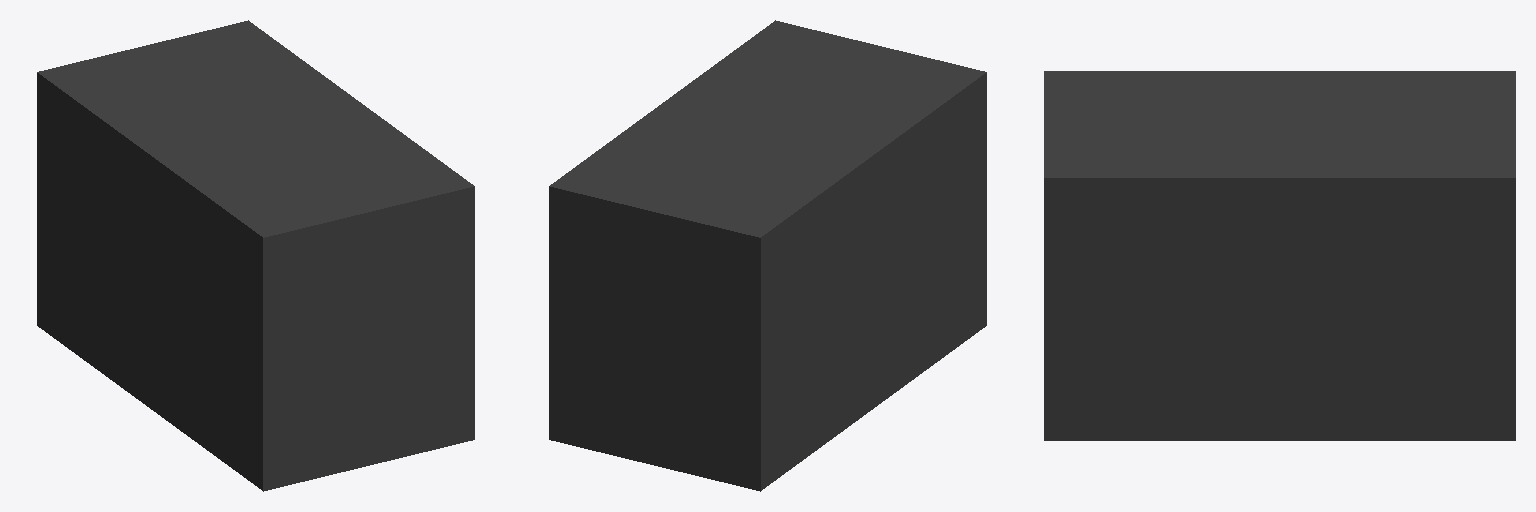
robot.urdf — box.urdf:
<?xml version="1.0" ?>
<robot name="box.urdf">
  <link name="baseLink">
    <contact>
      <lateral_friction value="1.0"/>
      <rolling_friction value="0.0001"/>
      <inertia_scaling value="3.0"/>
    </contact>
    <inertial>
      <origin rpy="0 0 0" xyz="0 0 0"/>
       <mass value="0.1"/>
       <inertia ixx="1" ixy="0" ixz="0" iyy="1" iyz="0" izz="1"/>
    </inertial>
    <visual>
      <origin rpy="0 0 0" xyz="0 0 0"/>
      <geometry>
        <!-- <box size="0.172 0.319 0.19699999999999998"/> -->
        <mesh filename="box/box.obj" scale="0.172 0.319 0.19699999999999998"/>
      </geometry>
      <material name="white">
        <color rgba="0.3 0.3 0.3 1"/>
      </material>
    </visual>
    <collision>
      <origin rpy="0 0 0" xyz="0 0 0"/>
      <geometry>
        <mesh filename="box/box.obj" scale="0.172 0.319 0.19699999999999998"/>
	 	    <!-- <box size="0.172 0.319 0.19699999999999998"/> -->
      </geometry>
    </collision>
  </link>
</robot>

--- Render facts (derived) ---
The picture shows the robot from 3 angles, left to right: view 1: azimuth 30°, elevation 25°; view 2: azimuth 150°, elevation 25°; view 3: azimuth 270°, elevation 25°; orthographic projection.
Robot: box.urdf — 1 links, 0 joints (none); root link baseLink; default pose: all joints at 0.
Visible links, largest first — view 1: baseLink; view 2: baseLink; view 3: baseLink.
Boxes of the visible links, bbox=[...] form: baseLink: bbox=[37, 20, 474, 491]; baseLink: bbox=[549, 20, 986, 491]; baseLink: bbox=[1044, 71, 1515, 440].
Size in the robot's own frame: 0.172 by 0.319 by 0.197 metres.
Meshes: 1 distinct files referenced, 1 mesh visuals loaded (1 OBJ).
